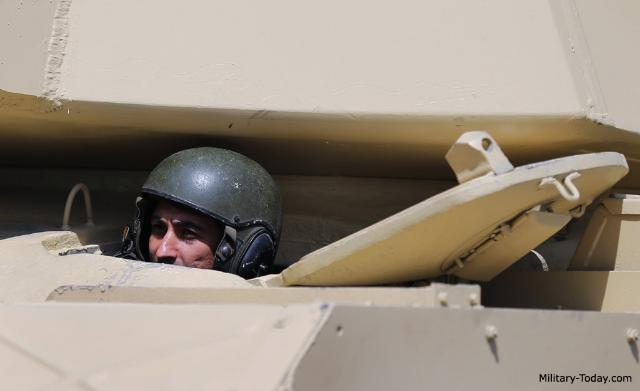other: (126, 144, 288, 263)
